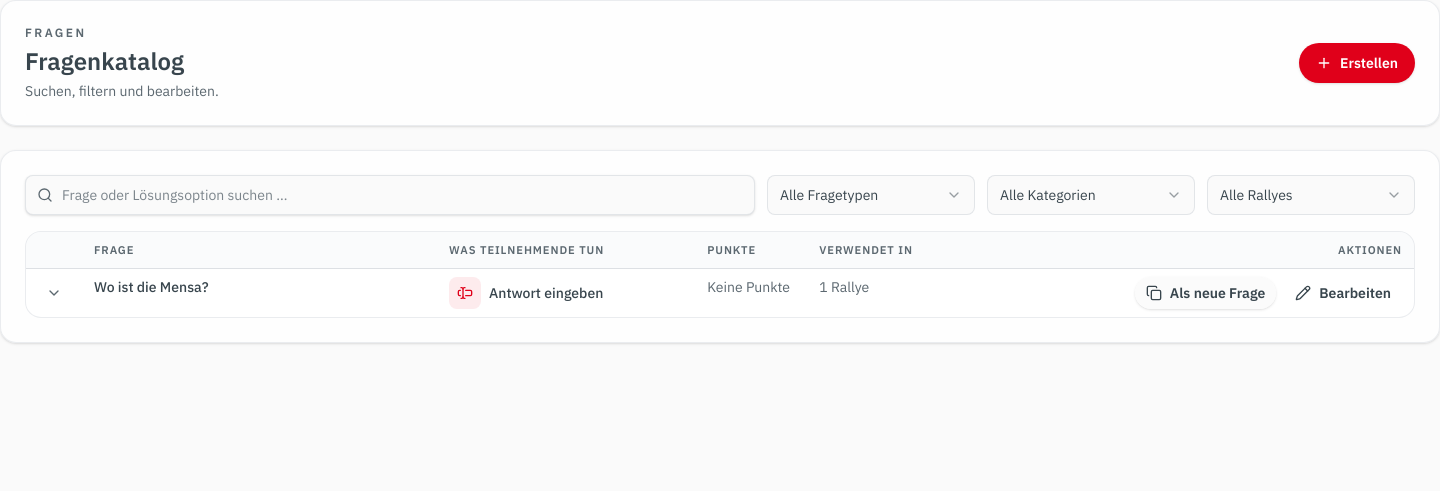
Test case: QuestionsManagement › keeps questions visible with unknown usage after a usage result failure
Type "Mensa" into the search field.
click(390, 195); type("Mensa")  # box [25,175,755,215]
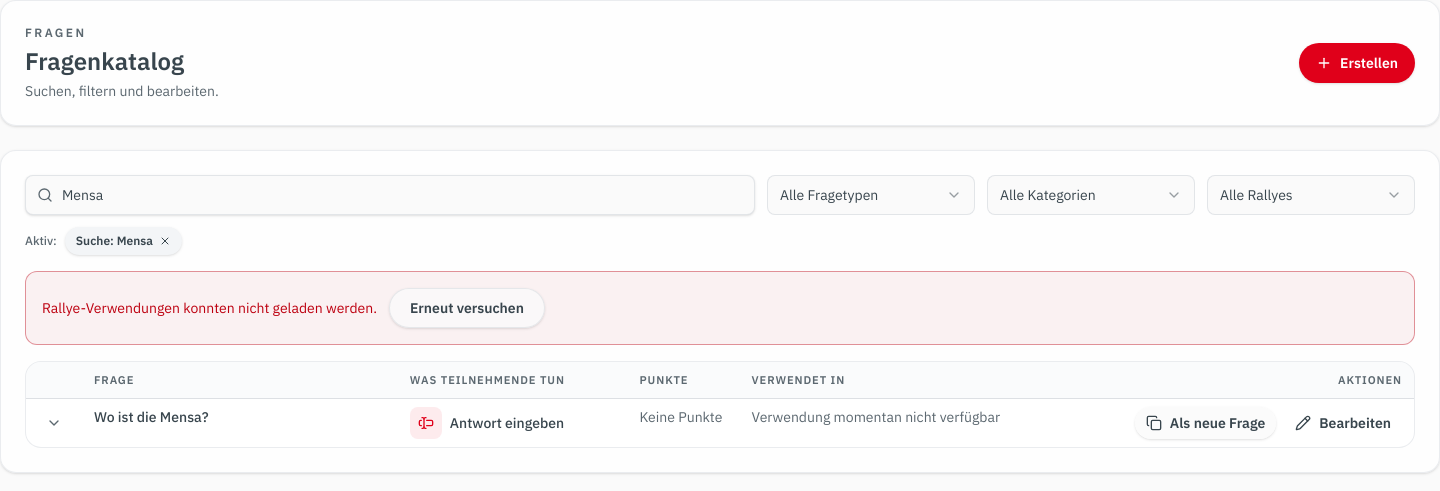
Result: the message reads "Rallye-Verwendungen konnten nicht geladen werden." at [42,299,377,317]
Result: the text "Verwendung momentan nicht verfügbar" is shown at [752,408,1000,426]
Result: the text "1 Rallye" is gone
Click the button "Erneut versuchen".
click(467, 308)  # box [389,288,545,328]
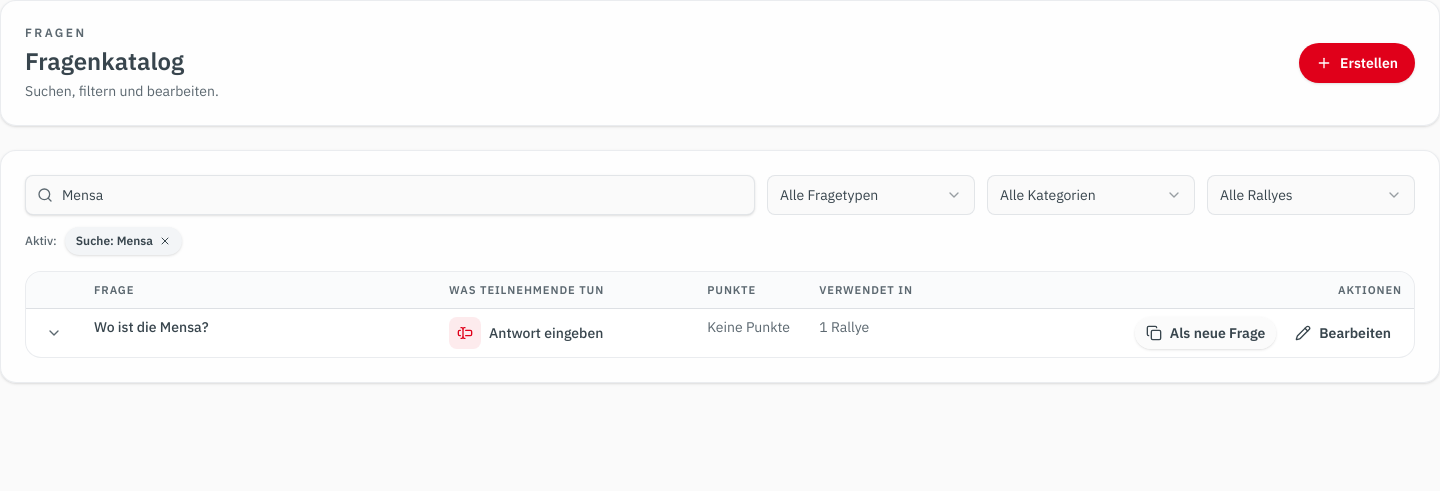
Result: the text "1 Rallye" is shown at [819,318,869,336]
Result: the message "Rallye-Verwendungen konnten nicht geladen werden." is gone
